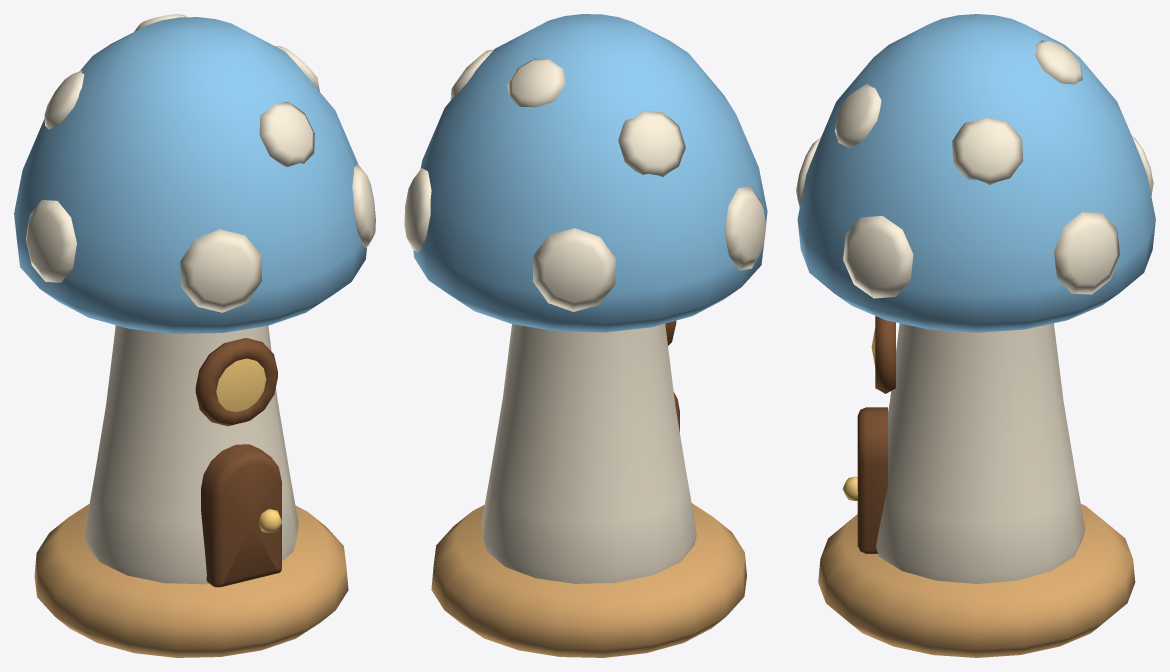
File: ShopNightLamp.fbx
The picture shows the model from 3 angles, left to right: view 1: azimuth 30°, elevation 25°; view 2: azimuth 150°, elevation 25°; view 3: azimuth 270°, elevation 25°; orthographic projection.
Parts seen in each view (by area): view 1: ShopNightLamp; view 2: ShopNightLamp; view 3: ShopNightLamp.
Part boxes in pixels (x1,y1,x2,y2): ShopNightLamp: (14, 14, 375, 657); ShopNightLamp: (404, 14, 767, 657); ShopNightLamp: (796, 14, 1155, 657).
Size of the model in its own units: 0.3355 by 0.578 by 0.3313.
